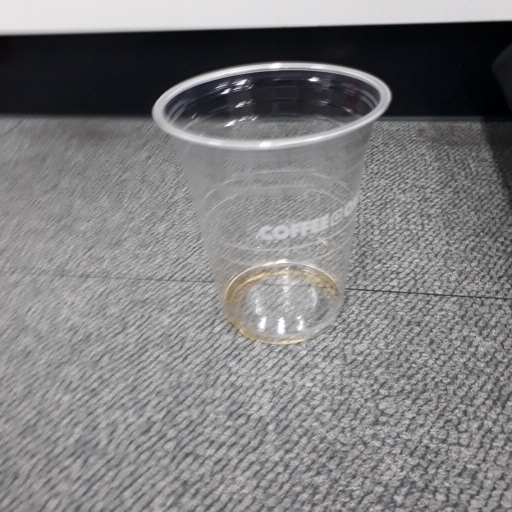Plastic_2: (152, 58, 398, 346)
